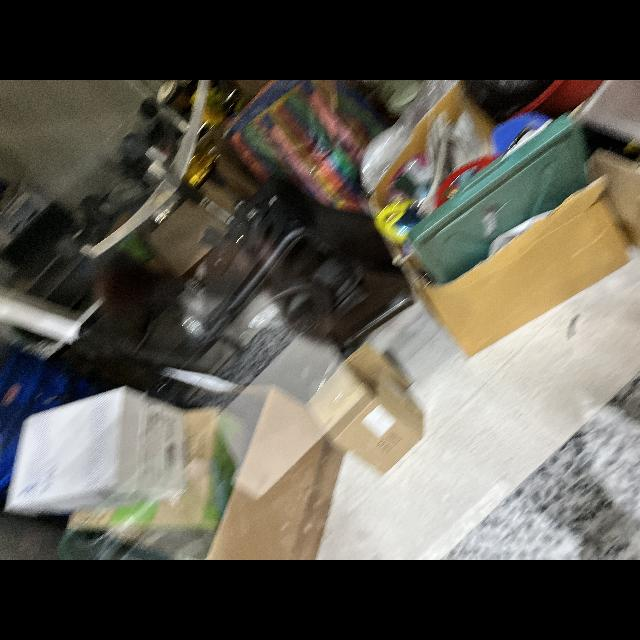cardboard_box: (413, 174, 631, 360), (7, 382, 191, 548), (307, 344, 427, 482)
